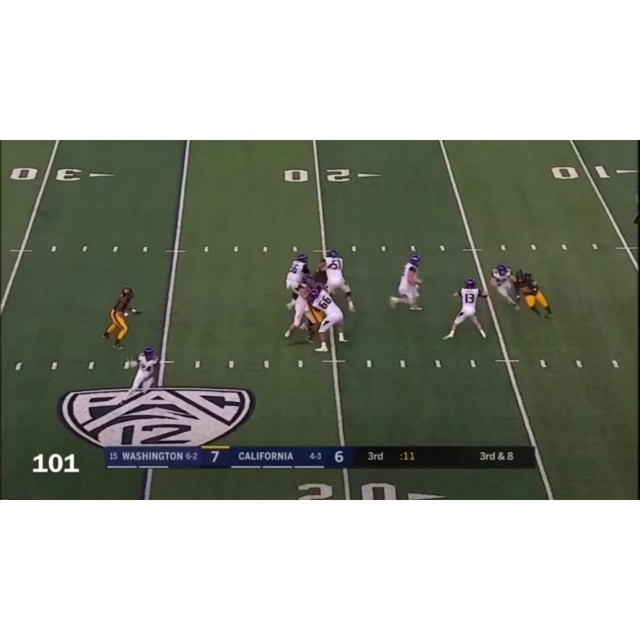american-football-player: (443, 277, 489, 341), (307, 288, 348, 354), (319, 247, 357, 311), (103, 286, 141, 350), (284, 276, 317, 342), (122, 345, 161, 397), (514, 269, 553, 320), (391, 255, 424, 312), (489, 263, 519, 311), (285, 252, 310, 302)
